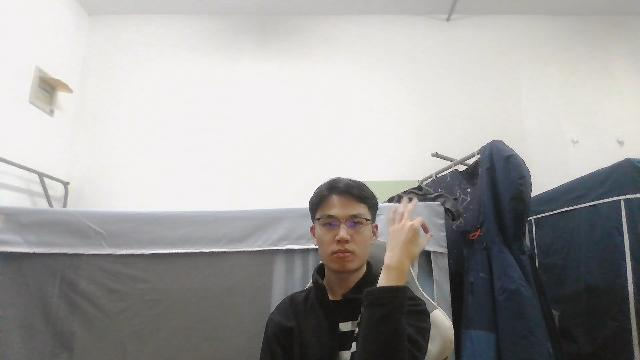ok: (384, 192, 433, 268)
